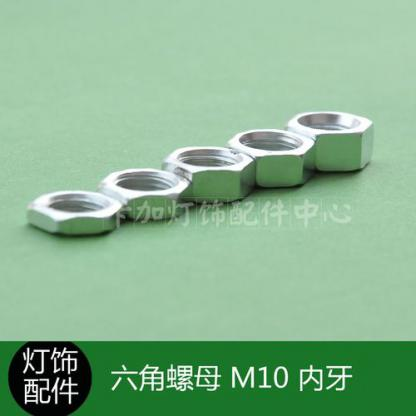FOD: (283, 107, 376, 173), (162, 143, 257, 206), (225, 126, 315, 190), (97, 163, 193, 222), (24, 187, 122, 240)
